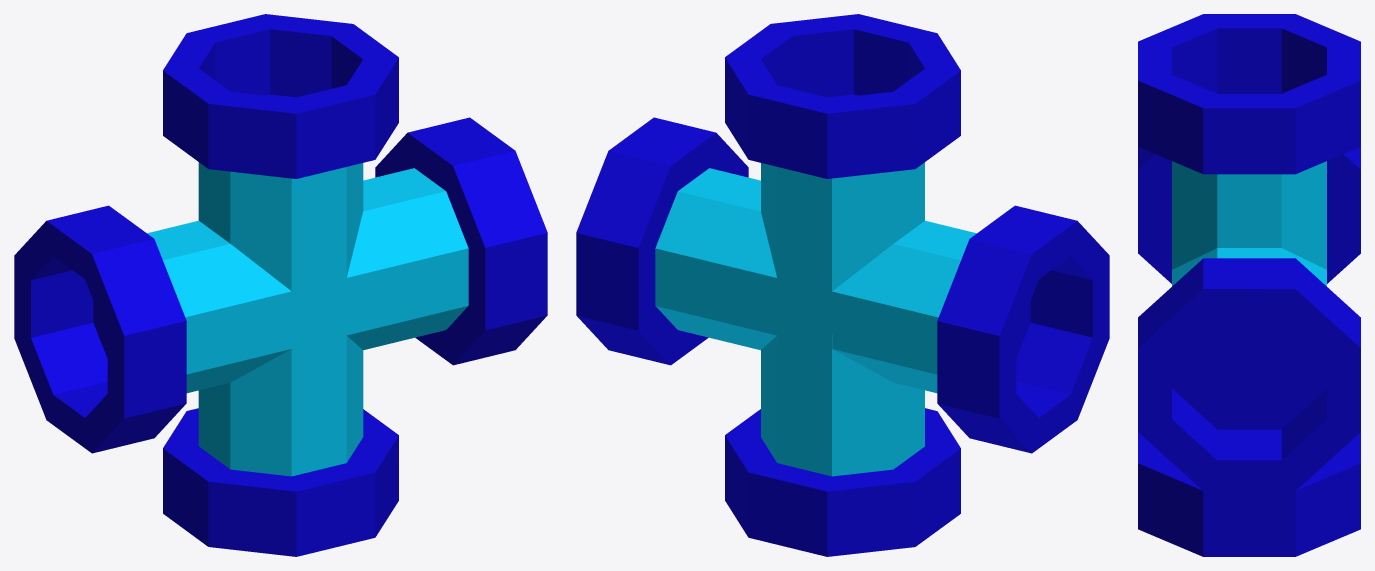
Rendered from pipes 5.0.fbx.
3 views of the same model, side by side, from view 1: azimuth 30°, elevation 25°; view 2: azimuth 150°, elevation 25°; view 3: azimuth 270°, elevation 25° (orthographic).
Parts seen in each view (by area): view 1: pipe 11; view 2: pipe 11; view 3: pipe 11.
Part boxes in pixels (box(x1,y1,x2,y2)): pipe 11: box(14, 14, 547, 556); pipe 11: box(576, 14, 1109, 556); pipe 11: box(1138, 14, 1360, 556).
Size of the model in its own units: 76.12 by 76.12 by 34.27.
